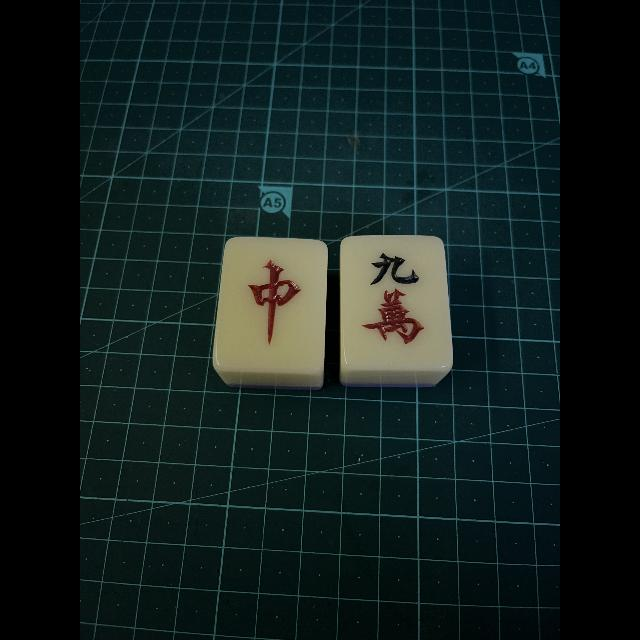c9: (343, 237, 447, 367)
dr: (222, 238, 321, 370)
